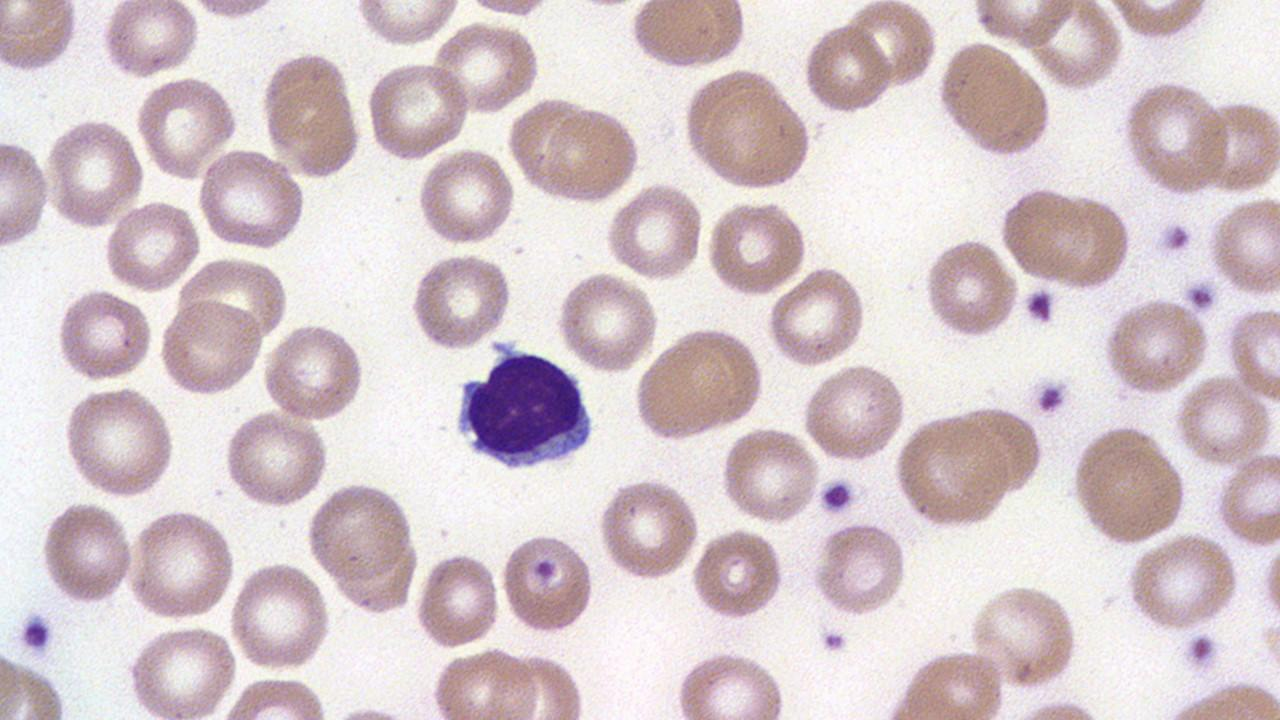Platelets: (17, 606, 57, 656), (1028, 374, 1074, 417), (816, 475, 858, 516), (1155, 218, 1195, 256), (1022, 286, 1058, 327), (1185, 630, 1221, 670), (1182, 276, 1218, 311), (816, 625, 851, 654)
RBC: (1069, 423, 1189, 548), (630, 332, 762, 444), (936, 39, 1056, 161), (1000, 186, 1134, 290), (59, 384, 178, 498), (893, 413, 1007, 529), (261, 50, 366, 175), (1120, 78, 1230, 197), (125, 507, 237, 621), (967, 581, 1083, 688), (694, 91, 816, 192), (226, 560, 334, 674), (194, 147, 308, 252), (42, 116, 145, 230), (133, 74, 242, 180), (1123, 534, 1239, 632), (798, 362, 908, 464), (596, 475, 700, 582), (304, 481, 415, 581), (122, 622, 240, 716), (556, 268, 660, 374), (35, 499, 136, 608), (221, 410, 331, 510), (156, 298, 265, 398), (407, 250, 515, 350), (260, 322, 368, 422), (432, 20, 543, 117), (766, 265, 869, 368), (366, 59, 470, 161), (1103, 296, 1209, 395), (176, 255, 291, 346), (604, 180, 705, 283), (538, 106, 642, 206), (498, 530, 596, 636), (921, 236, 1019, 341), (704, 199, 810, 296), (720, 424, 820, 526), (415, 147, 517, 247), (941, 402, 1048, 495), (810, 521, 911, 618), (1022, 0, 1124, 94), (688, 525, 785, 623), (52, 288, 154, 381), (1173, 376, 1273, 468), (101, 200, 202, 291), (413, 550, 502, 650), (800, 22, 892, 117), (886, 645, 1010, 715), (626, 0, 748, 71), (847, 0, 940, 91), (670, 649, 790, 717), (1198, 96, 1280, 193), (99, 2, 203, 78), (430, 646, 540, 717), (1209, 195, 1280, 299), (1215, 450, 1279, 546), (0, 138, 53, 251), (0, 2, 79, 76), (348, 2, 464, 48), (1226, 306, 1280, 402), (968, 2, 1076, 48), (1259, 540, 1280, 632)
WBC: (451, 346, 599, 473)
